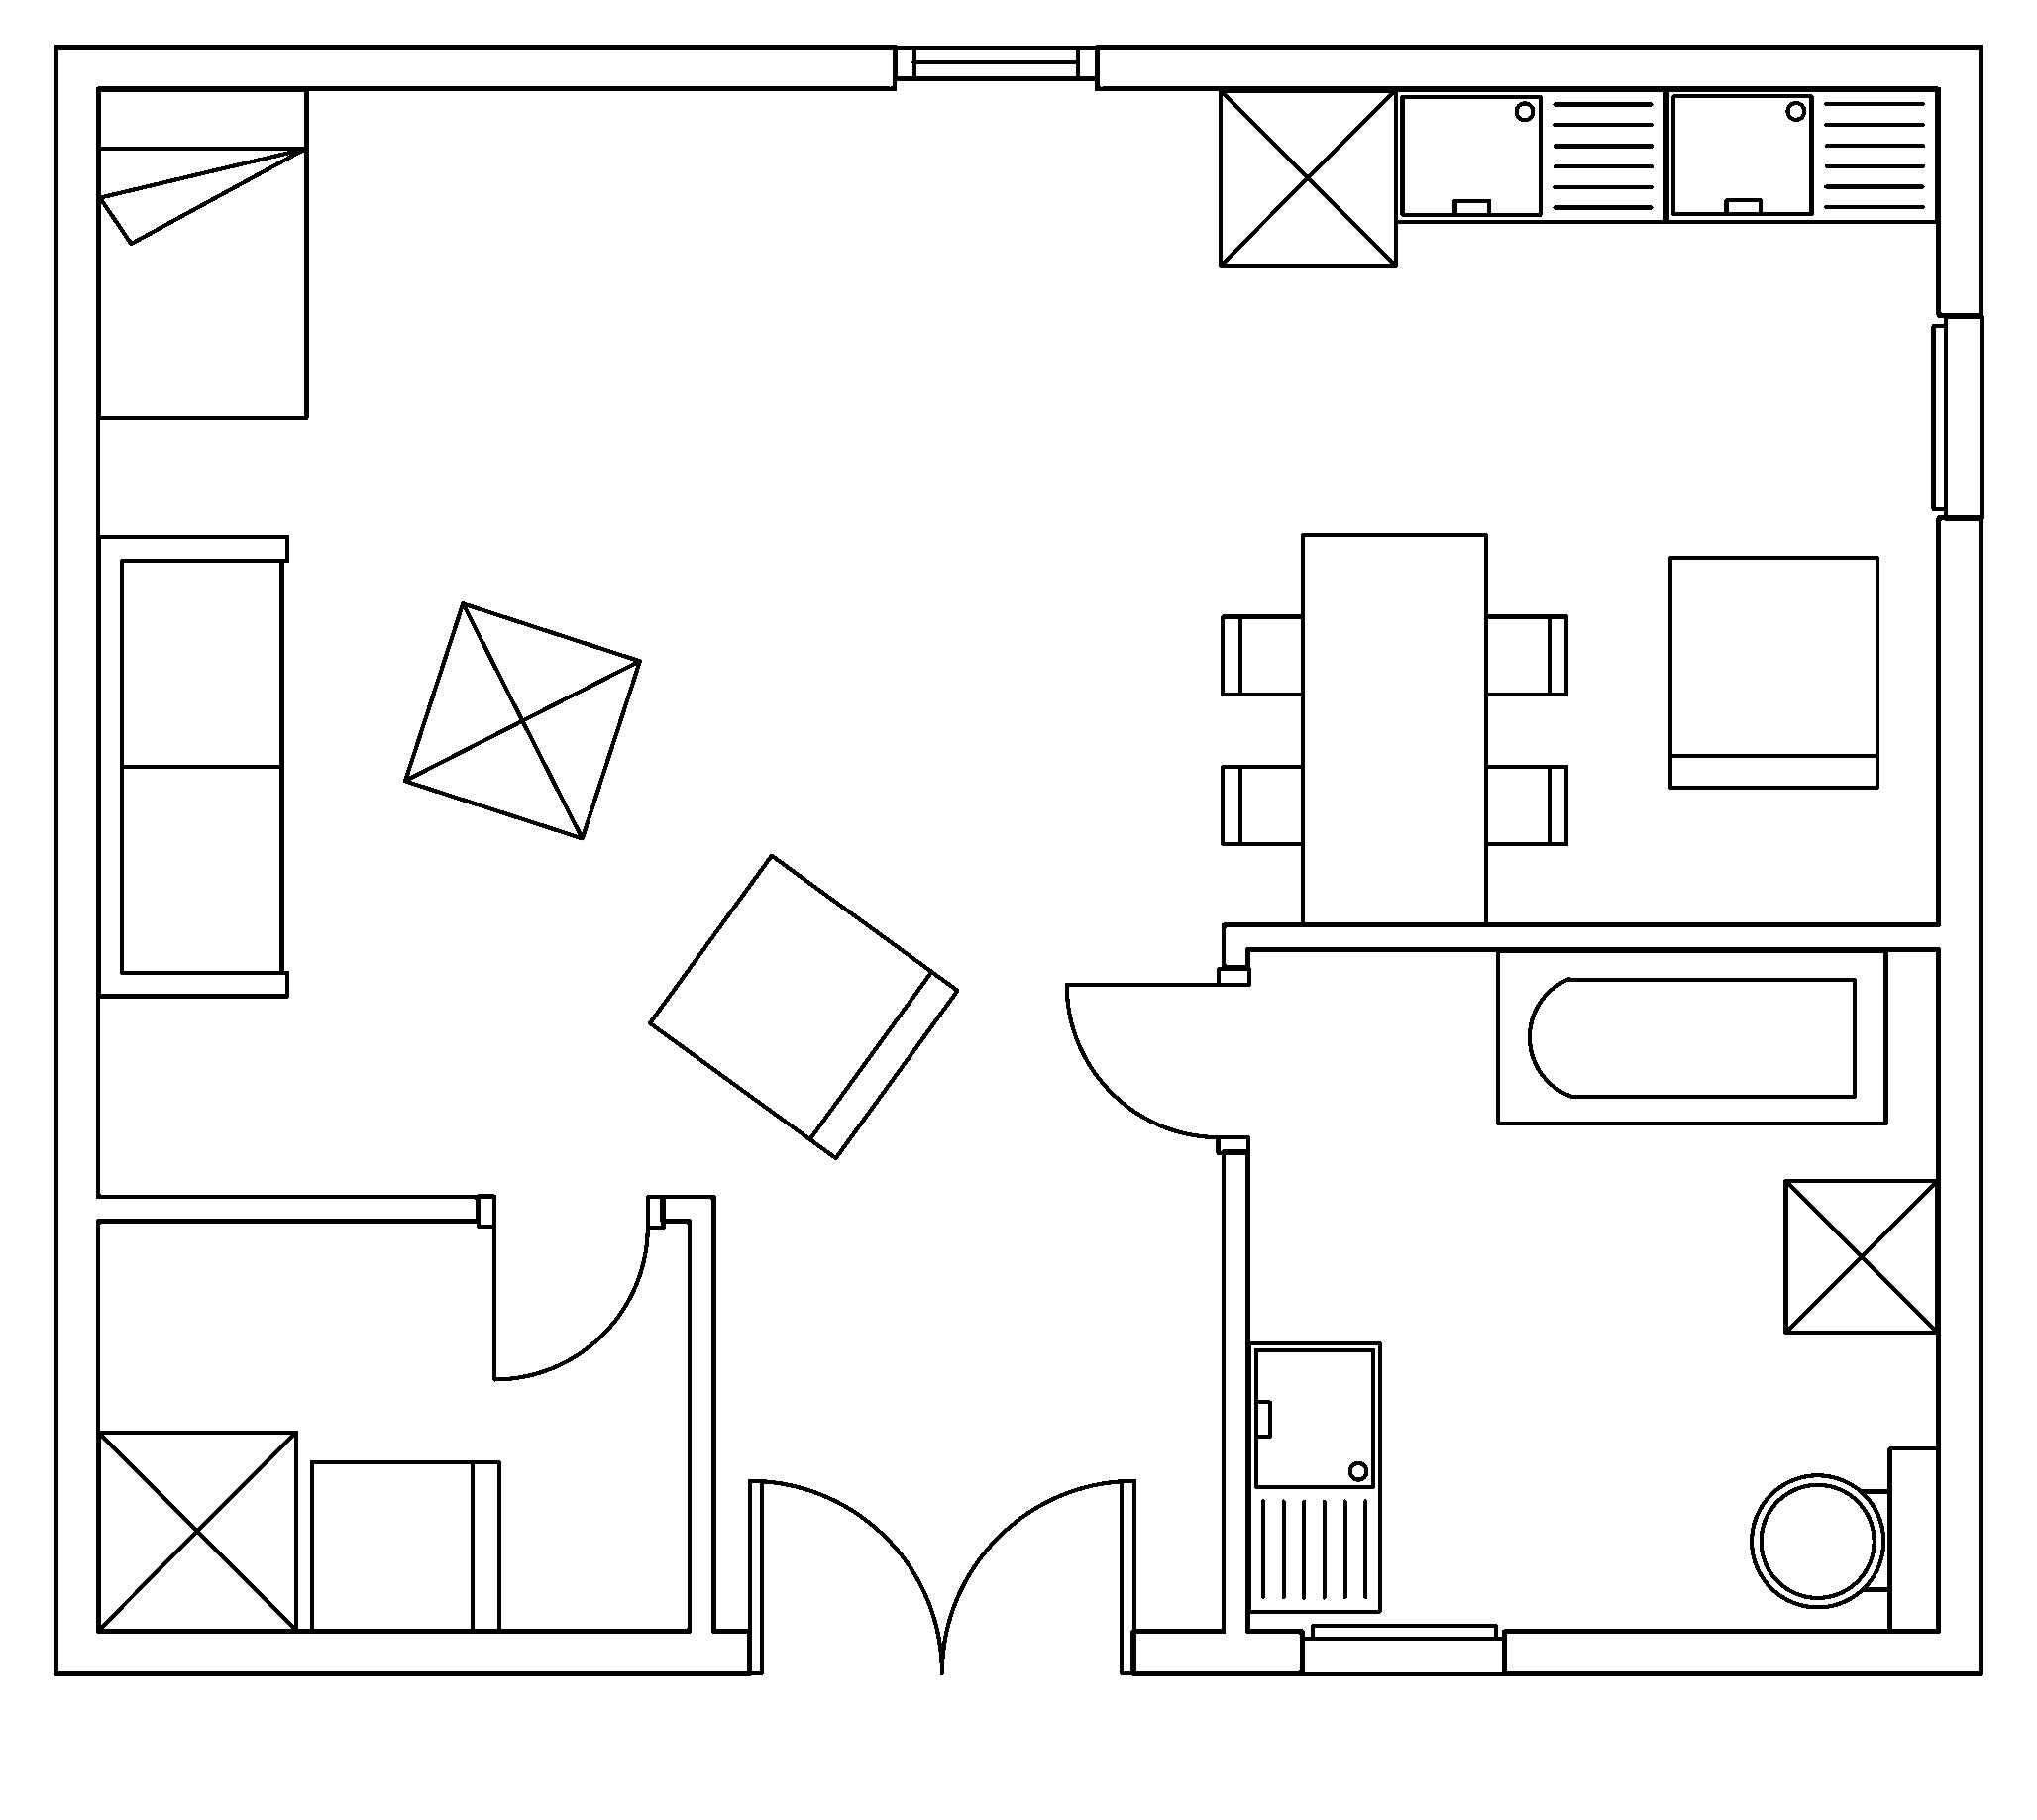bed: (95, 86, 309, 420)
coffee_table: (402, 599, 643, 840), (95, 1428, 299, 1632), (1217, 86, 1398, 267), (1781, 1177, 1940, 1335)
dining_table: (1219, 531, 1568, 926)
large_sink: (1749, 1444, 1940, 1632)
large_sofa: (95, 532, 290, 998)
sink: (1663, 86, 1940, 223), (1245, 1339, 1382, 1614), (1393, 86, 1668, 223)
small_sofa: (646, 850, 961, 1159), (1666, 553, 1879, 789), (307, 1458, 500, 1632)
tub: (1494, 947, 1888, 1126)
